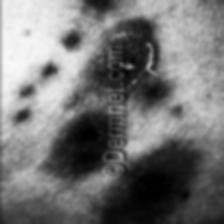Toxin: (41, 102, 97, 186), (25, 34, 72, 88), (116, 177, 170, 203), (133, 40, 163, 76)
